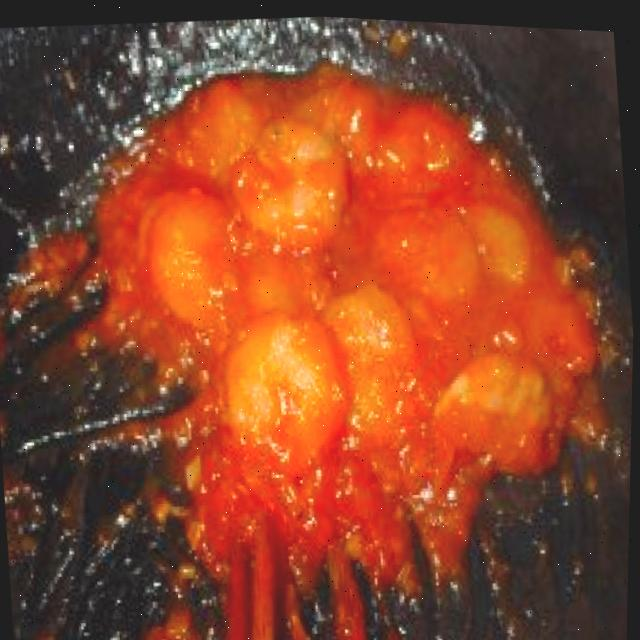熟制海鲜: (10, 1, 640, 635)
